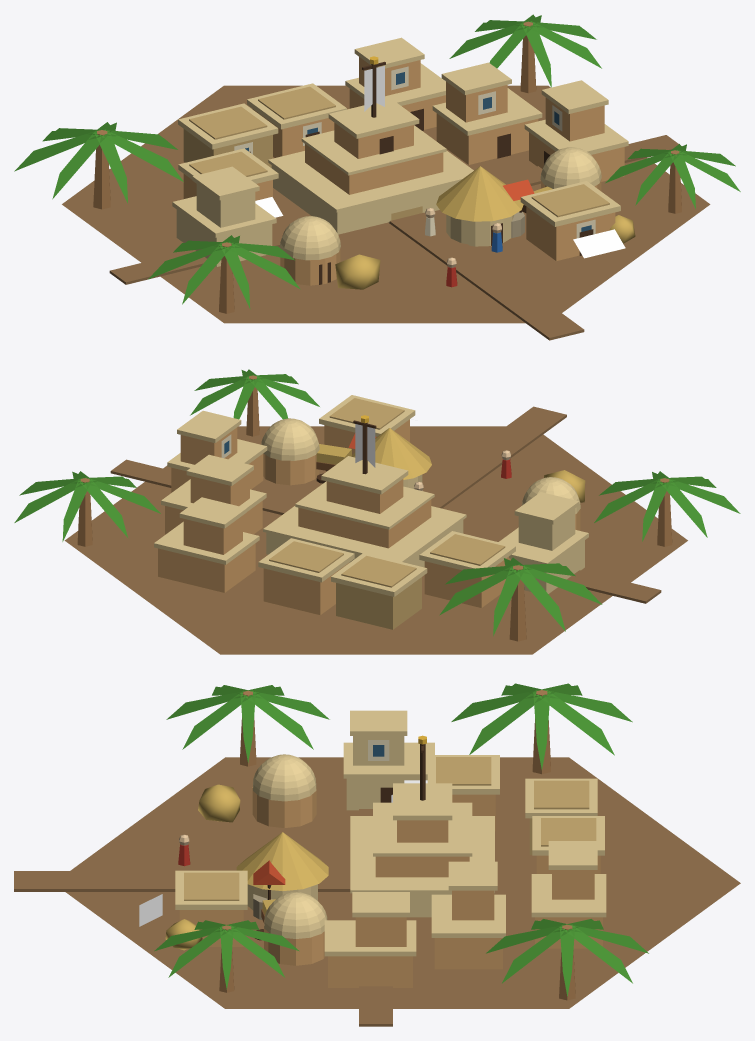
Rendered from city_0_3.fbx.
The picture shows the model from 3 angles, top to bottom: view 1: azimuth 30°, elevation 25°; view 2: azimuth 150°, elevation 25°; view 3: azimuth 270°, elevation 25°; orthographic projection. The views are drawn at different scales.
Visible parts, largest first — view 1: city_0_3; view 2: city_0_3; view 3: city_0_3.
Boxes of the visible parts, <box> form: city_0_3: <box>14,14,740,340</box>; city_0_3: <box>14,369,740,654</box>; city_0_3: <box>14,683,740,1026</box>.
Bounding box in the file's own units: 218 × 49 × 222.
